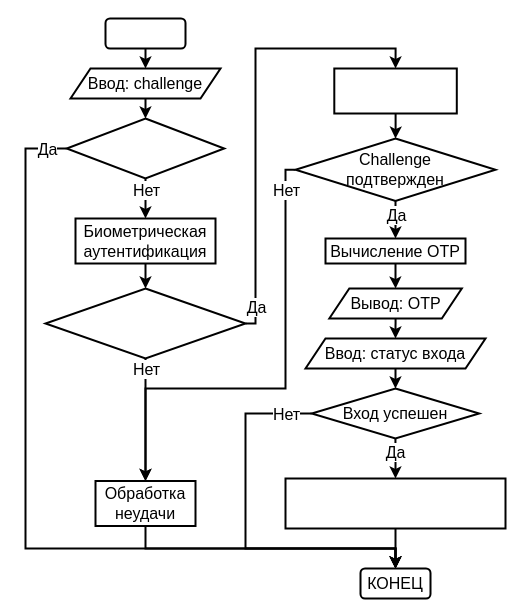
Some shapes in this 523 by 616 pixel diagram are drawn without their labels. The shapes that lost their labels are listed below. From the top down, each one's centre as x and y in pixels, then its label:
At (x=145, y=33): "НАЧАЛО".
At (x=395, y=90): "Верификация challenge".
At (x=145, y=148): "Действует бан".
At (x=145, y=323): "Пользователь аутентичен".
At (x=395, y=503): "Обновление login_count, failed_attempts, last_fault_at".
